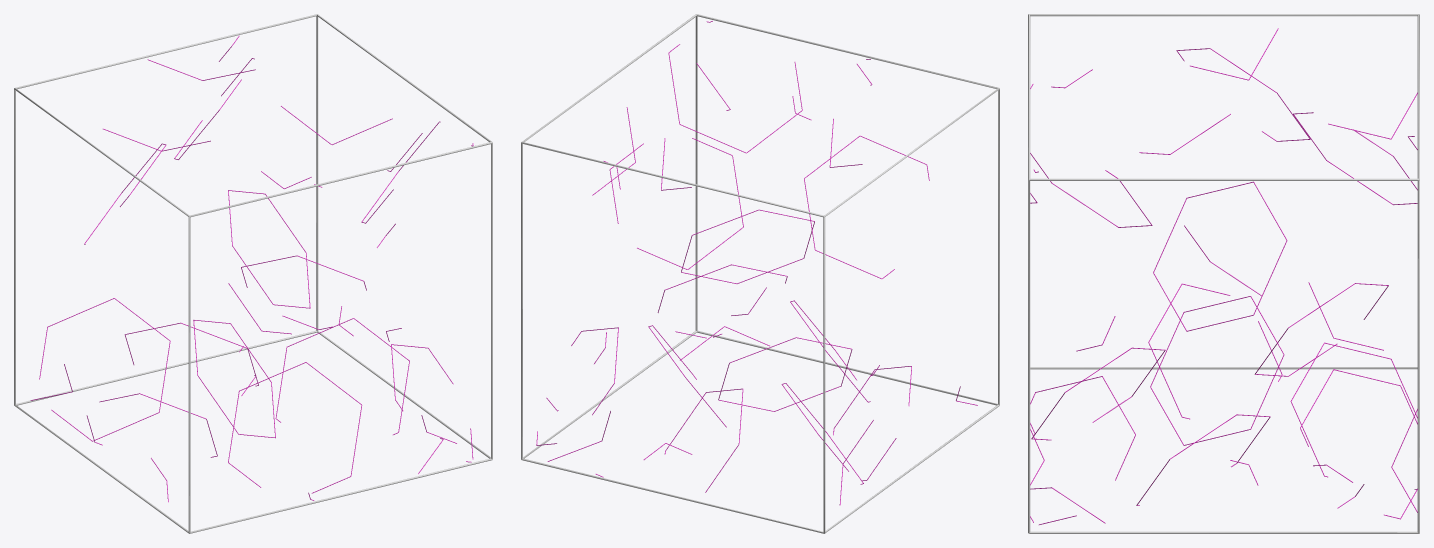
File: DDD000.glb
3 renders of one model, left to right at view 1: azimuth 30°, elevation 25°; view 2: azimuth 150°, elevation 25°; view 3: azimuth 270°, elevation 25°, orthographic. The views are drawn at different scales.
Visible parts, largest first — view 1: Shape_IndexedLineSet, Shape_IndexedLineSet.001; view 2: Shape_IndexedLineSet, Shape_IndexedLineSet.001; view 3: Shape_IndexedLineSet, Shape_IndexedLineSet.001.
Boxes of the visible parts, box(x1,y1,x2,y2) form: Shape_IndexedLineSet: box(14, 14, 492, 533); Shape_IndexedLineSet.001: box(30, 35, 473, 502); Shape_IndexedLineSet: box(521, 14, 999, 533); Shape_IndexedLineSet.001: box(536, 21, 977, 505); Shape_IndexedLineSet: box(1028, 14, 1419, 533); Shape_IndexedLineSet.001: box(1030, 28, 1417, 524).
Bounding box in the file's own units: 10.06 × 10.06 × 10.06.
